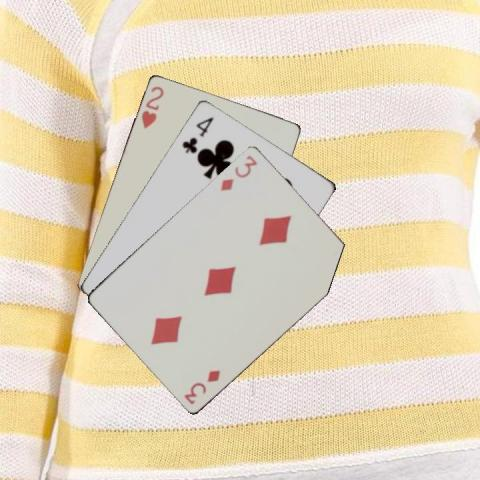2h: (138, 83, 165, 129)
3d: (216, 152, 258, 192), (182, 366, 222, 405)
4c: (179, 112, 215, 154)
